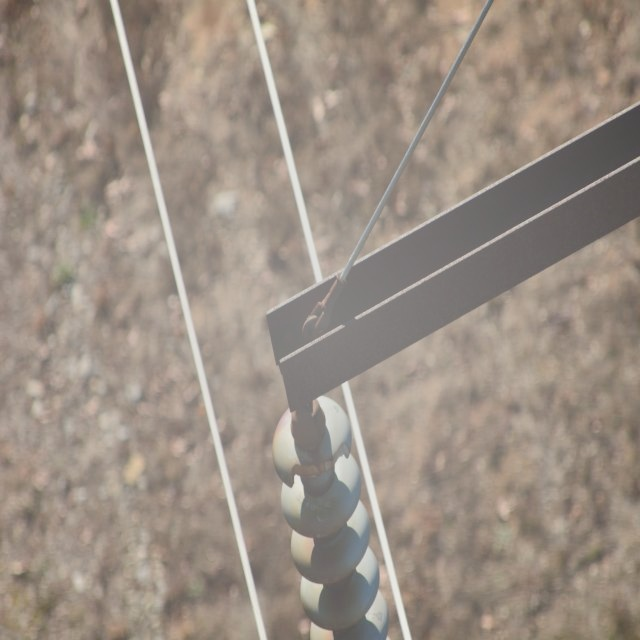broken: (287, 441, 351, 489)
insulator: (274, 396, 390, 640)
